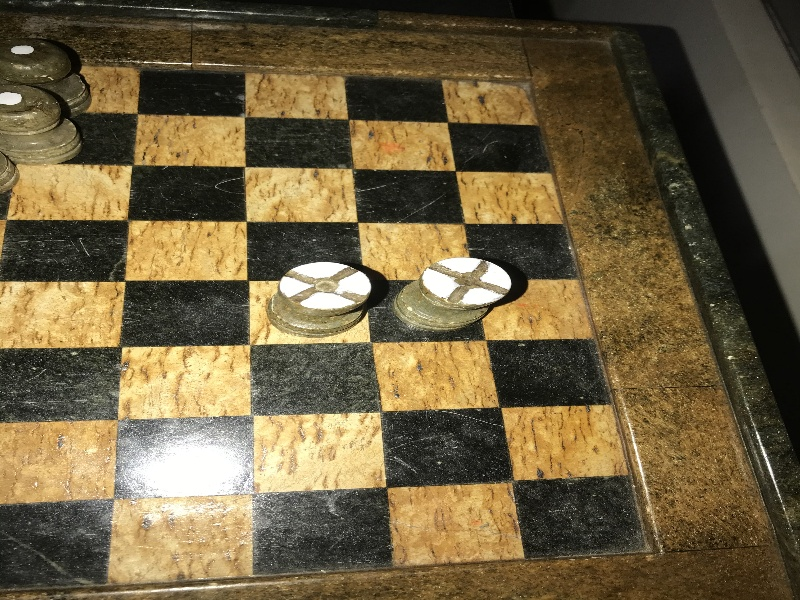WhiteBishop: (394, 258, 511, 331), (266, 261, 370, 337)
